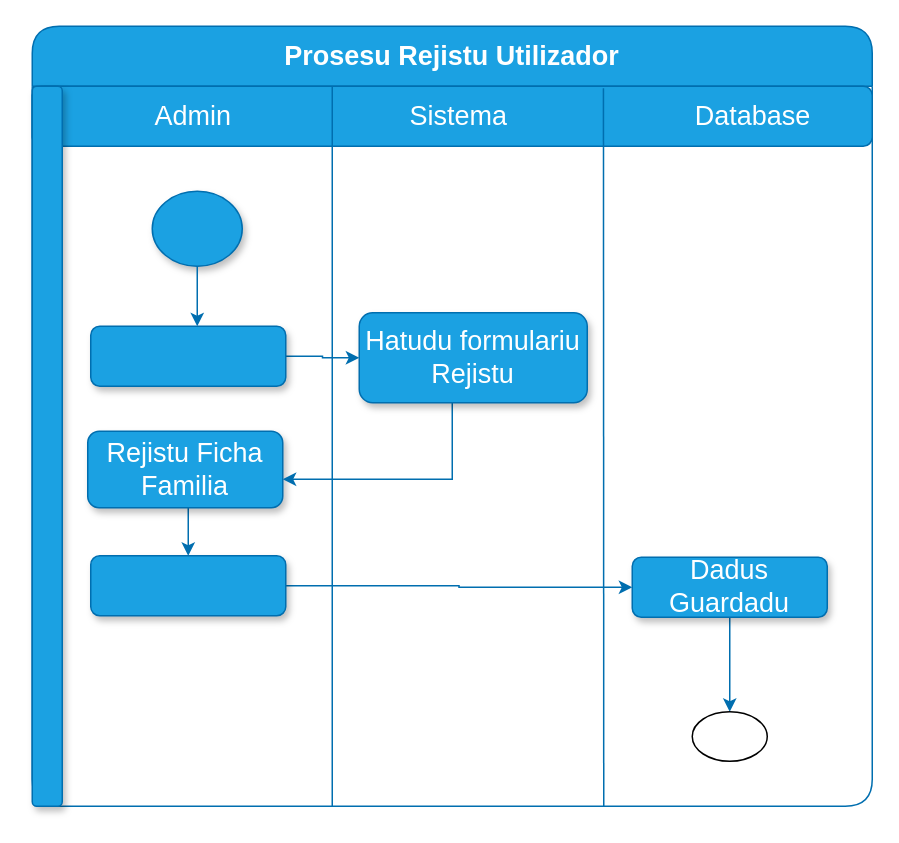
Image size: 899x843. Some labels were removed from this diagram. The centre of each missing label's shape, as x and y in pixels:
Asesu Sistema: the point at 189,358
Rai Dadus: the point at 189,587
